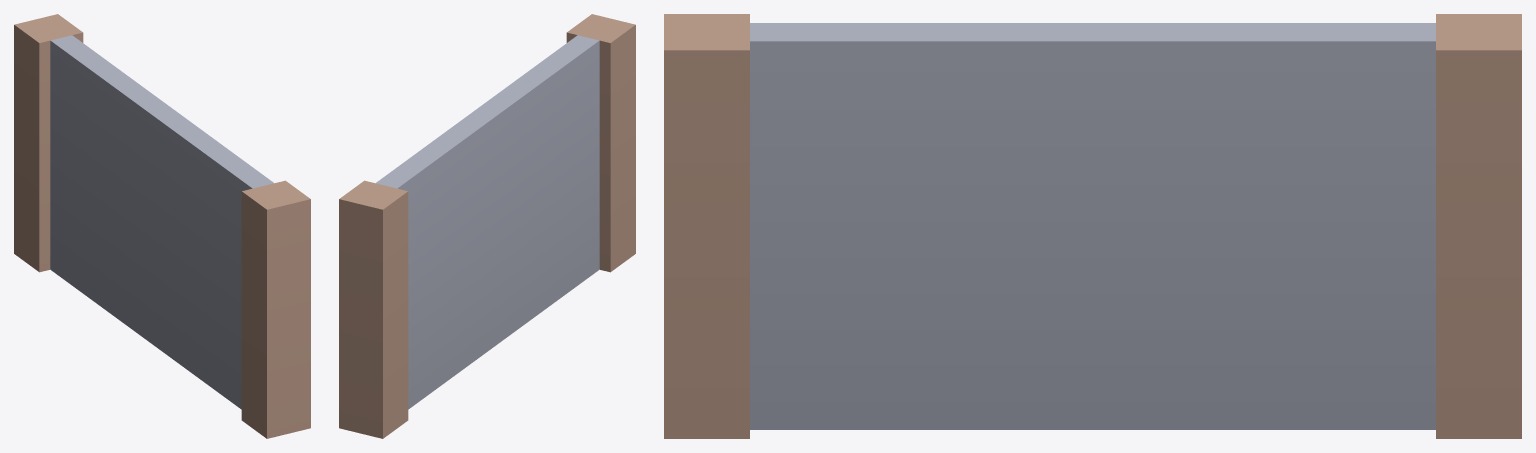
The model's file is wall-half.glb.
3 renders of one model, left to right at view 1: azimuth 30°, elevation 25°; view 2: azimuth 150°, elevation 25°; view 3: azimuth 270°, elevation 25°, orthographic. The views are drawn at different scales.
Parts seen in each view (by area): view 1: wall-half; view 2: wall-half; view 3: wall-half.
Boxes of the visible parts, x1,y1,x2,y2 form: wall-half: (14,14,310,438); wall-half: (339,14,635,438); wall-half: (664,14,1521,438).
Bounding box in the file's own units: 0.1 × 0.5 × 1.
